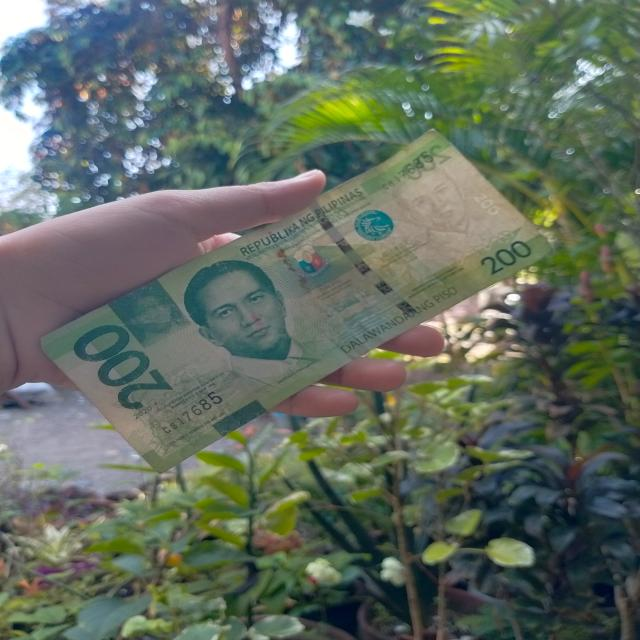concealed_value: (107, 278, 197, 346)
security_thread: (305, 196, 429, 324)
serial_number: (148, 386, 228, 438)
value: (67, 316, 177, 415)
value_watermark: (466, 192, 504, 218)
watermark: (395, 160, 484, 252)
